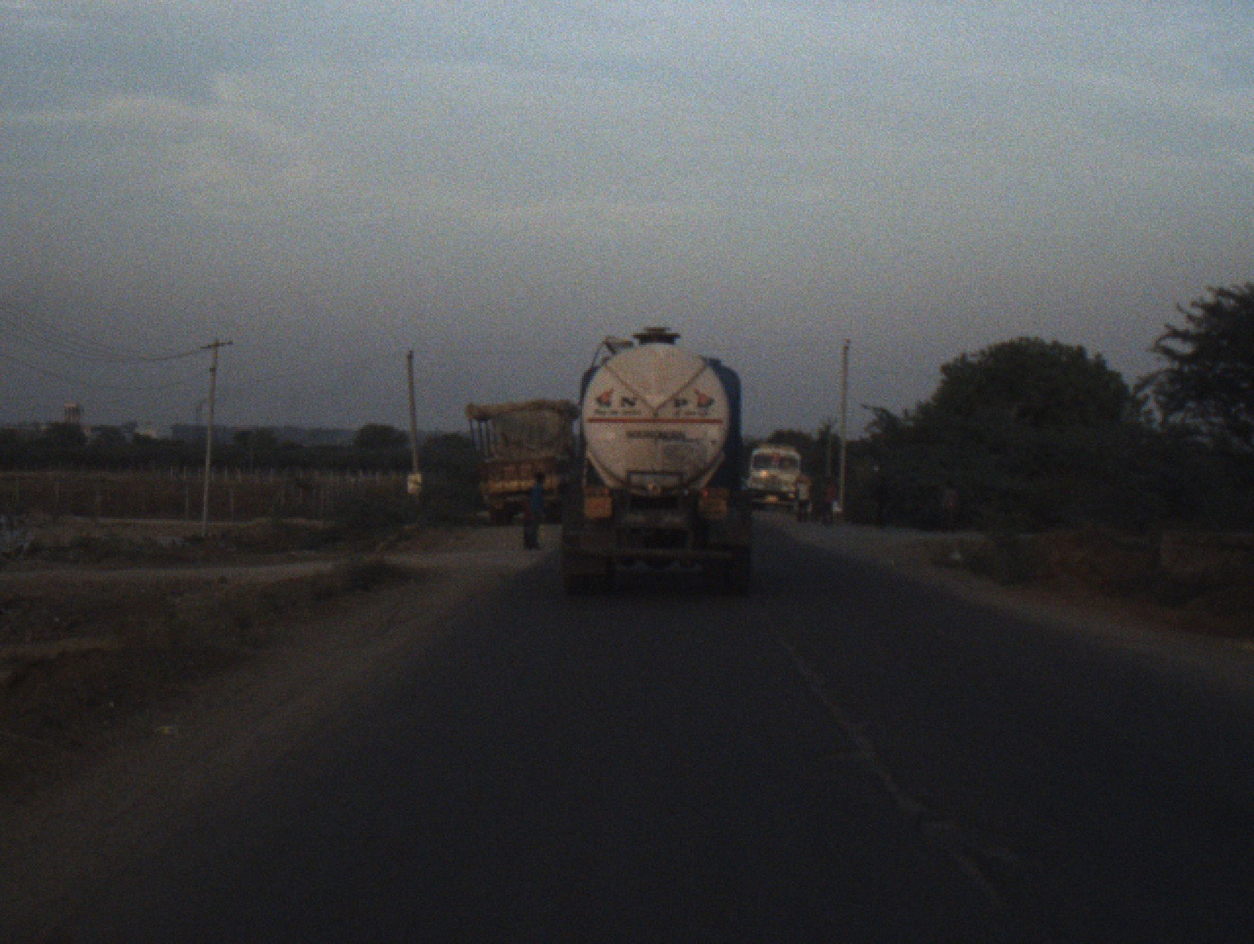person: (522, 463, 551, 549), (817, 468, 837, 524), (793, 470, 812, 517)
truck: (555, 322, 754, 600), (461, 395, 589, 528), (739, 431, 806, 509)
